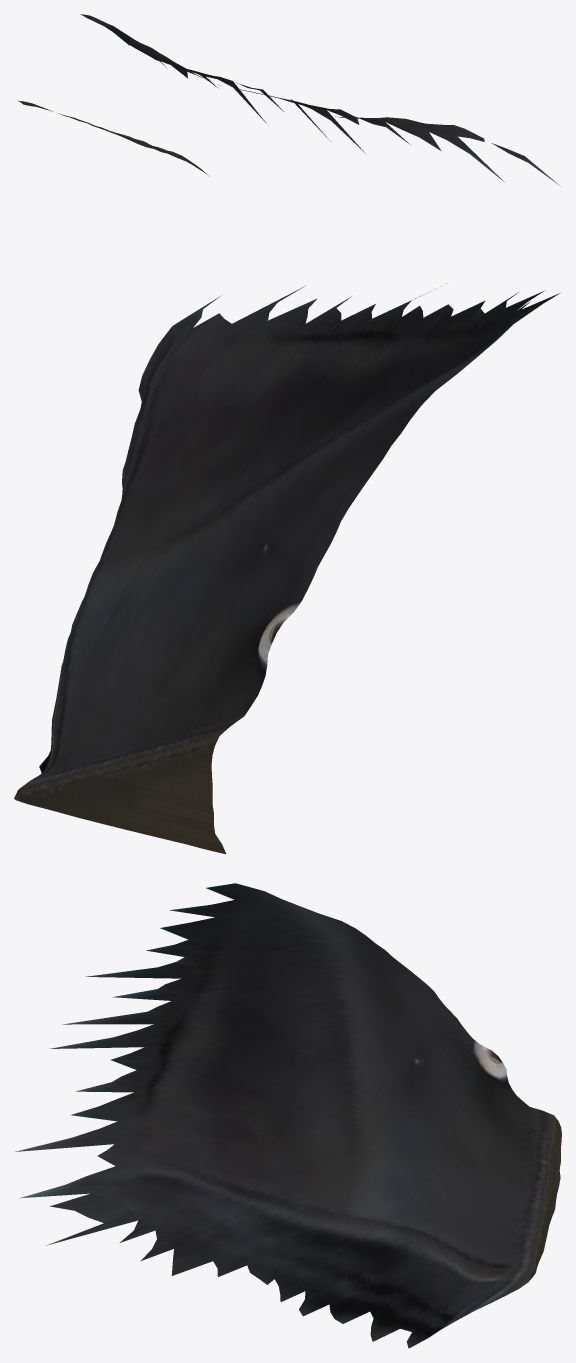
Rendered from observed-surface.glb.
3 views of the same model, one above another, from view 1: azimuth 30°, elevation 25°; view 2: azimuth 150°, elevation 25°; view 3: azimuth 270°, elevation 25° (orthographic). The views are drawn at different scales.
Parts seen in each view (by area): view 1: geometry_0; view 2: geometry_0; view 3: geometry_0.
Boxes of the visible parts, box(x1,y1,x2,y2) form: geometry_0: box(17, 14, 559, 185); geometry_0: box(14, 286, 559, 854); geometry_0: box(15, 883, 561, 1348).
Bounding box in the file's own units: 0.5434 × 0.5157 × 0.7587.
1 material, 1 textured.
